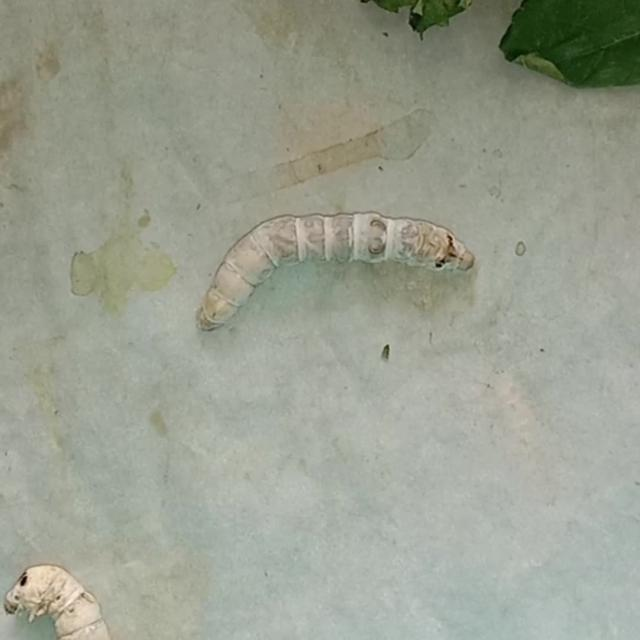Grasserie: (178, 175, 523, 373)
